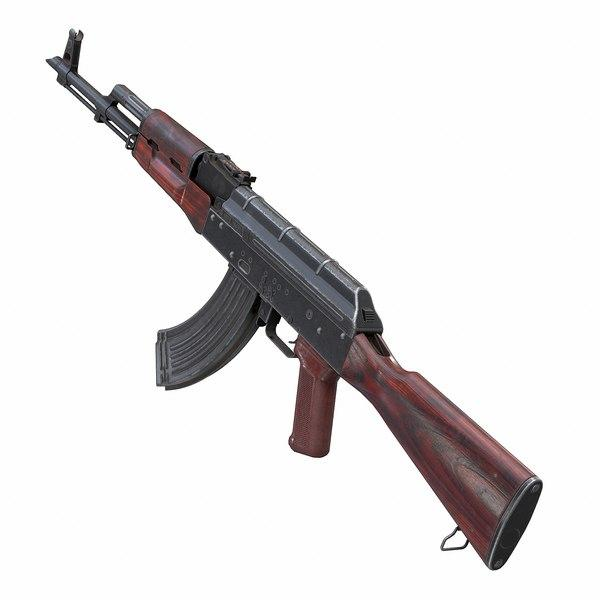larga: (44, 26, 545, 572)
